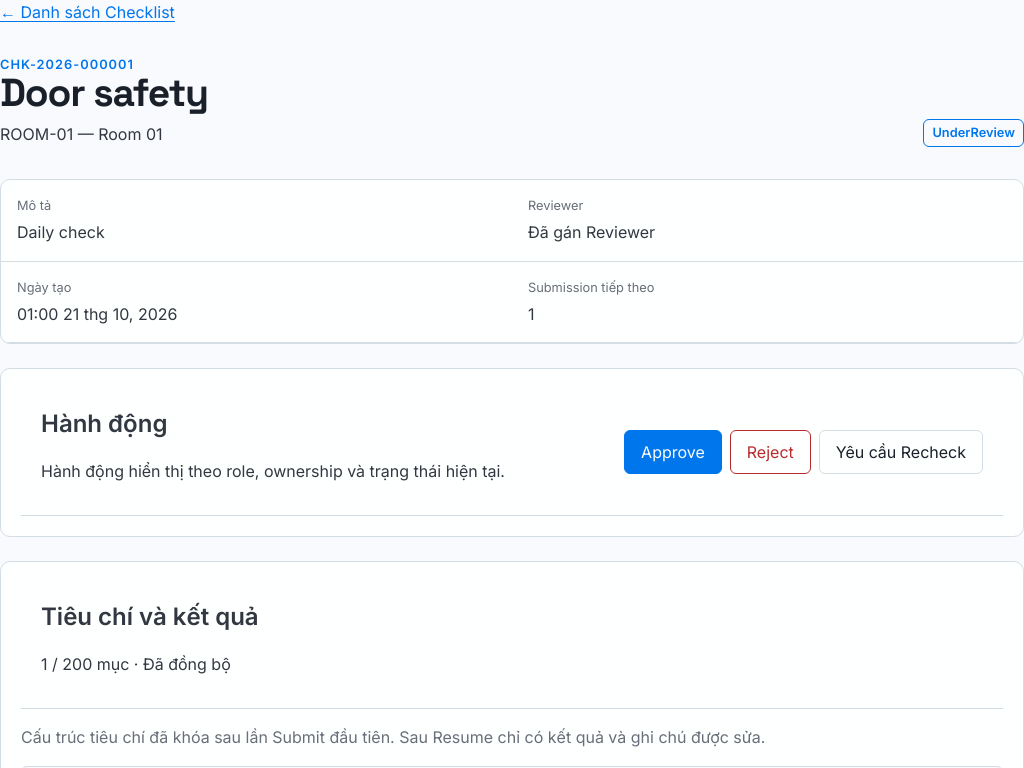
it: Checklist UI › shows only assigned Reviewer workflow and requires a reject reason
Expected: the button "Approve" is shown, [624,430,722,474]
Click the button "Reject": (770, 452) [730,430,811,474]
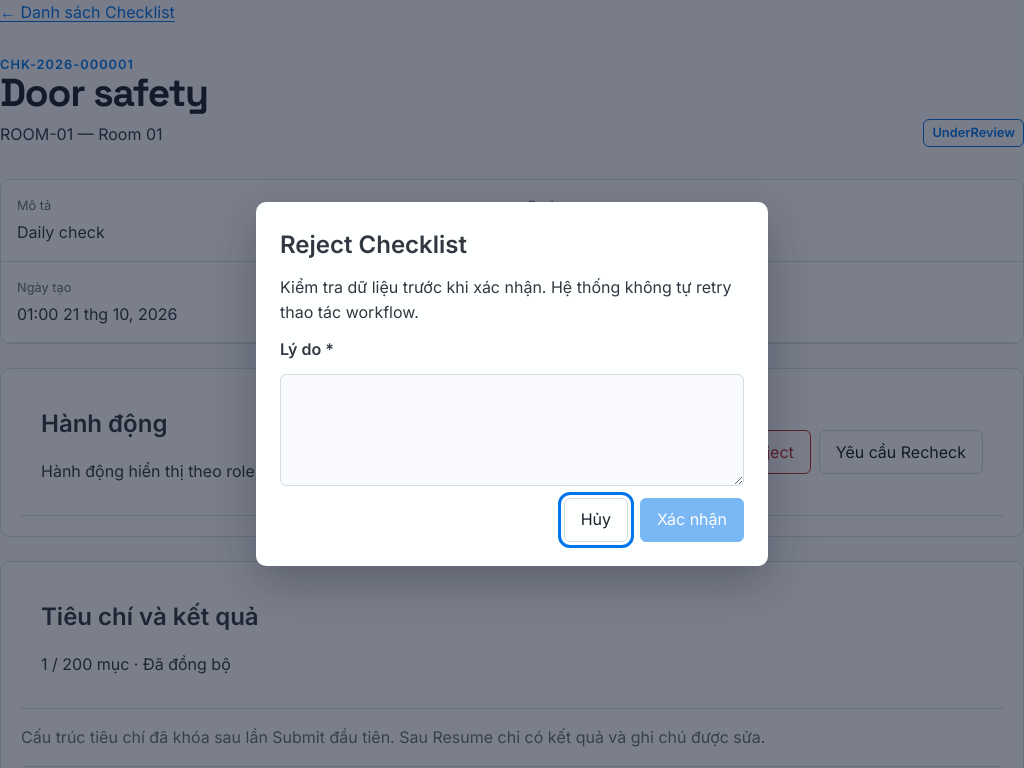
Expected: the button "Xác nhận" is disabled, [640,498,744,542]
In the text box labelled "Lý do *": (512, 430) [280,374,744,486], type "Evidence incomplete"
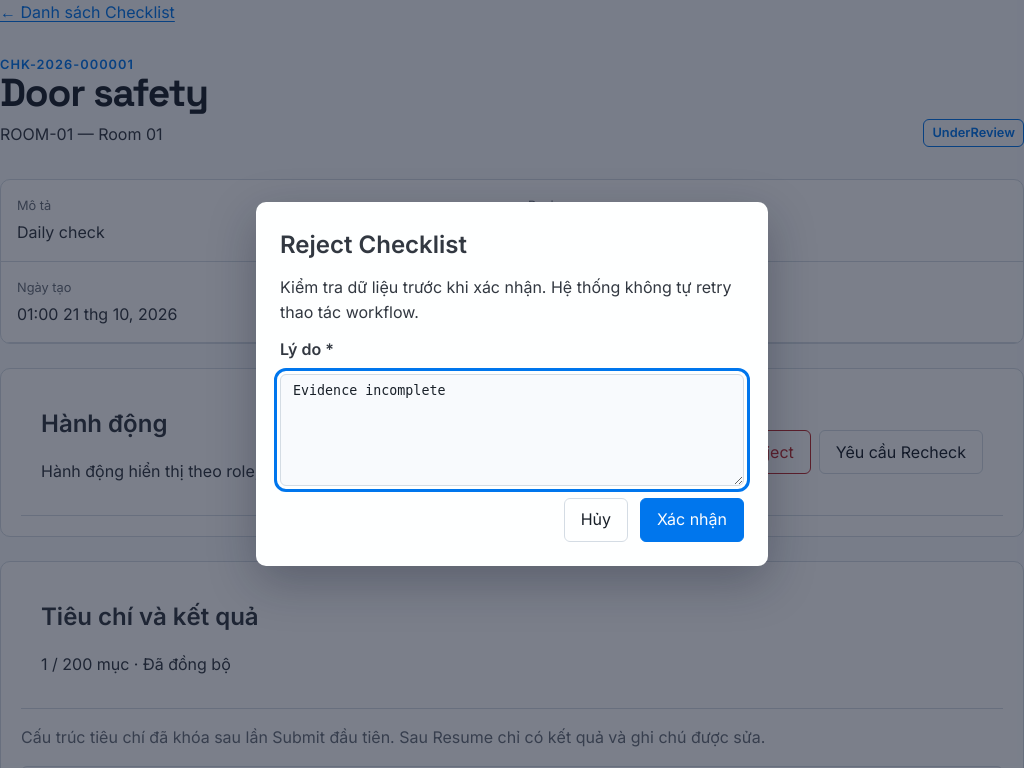
Expected: the button "Xác nhận" is enabled, [640,498,744,542]
